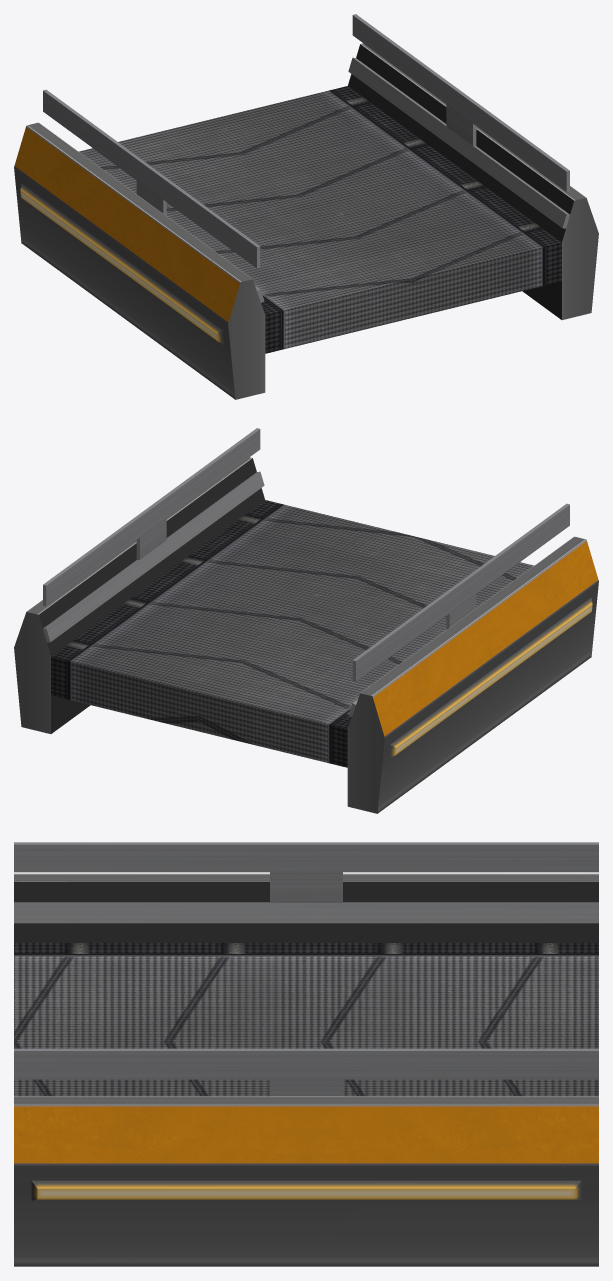
The model's file is Conveyor.glb.
The picture shows the model from 3 angles, top to bottom: view 1: azimuth 30°, elevation 25°; view 2: azimuth 150°, elevation 25°; view 3: azimuth 270°, elevation 25°; orthographic projection. The views are drawn at different scales.
Visible parts, largest first — view 1: Conveyor_Belt, Conveyor; view 2: Conveyor_Belt, Conveyor; view 3: Conveyor, Conveyor_Belt.
Boxes of the visible parts, box(x1,y1,x2,y2) form: Conveyor_Belt: box(79, 86, 561, 353); Conveyor: box(14, 14, 598, 399); Conveyor_Belt: box(51, 500, 533, 767); Conveyor: box(14, 428, 598, 813); Conveyor: box(14, 842, 598, 1266); Conveyor_Belt: box(14, 943, 598, 1096).
Bounding box in the file's own units: 1.01 × 0.38 × 1.
Materials: 2 (2 with a texture image).
